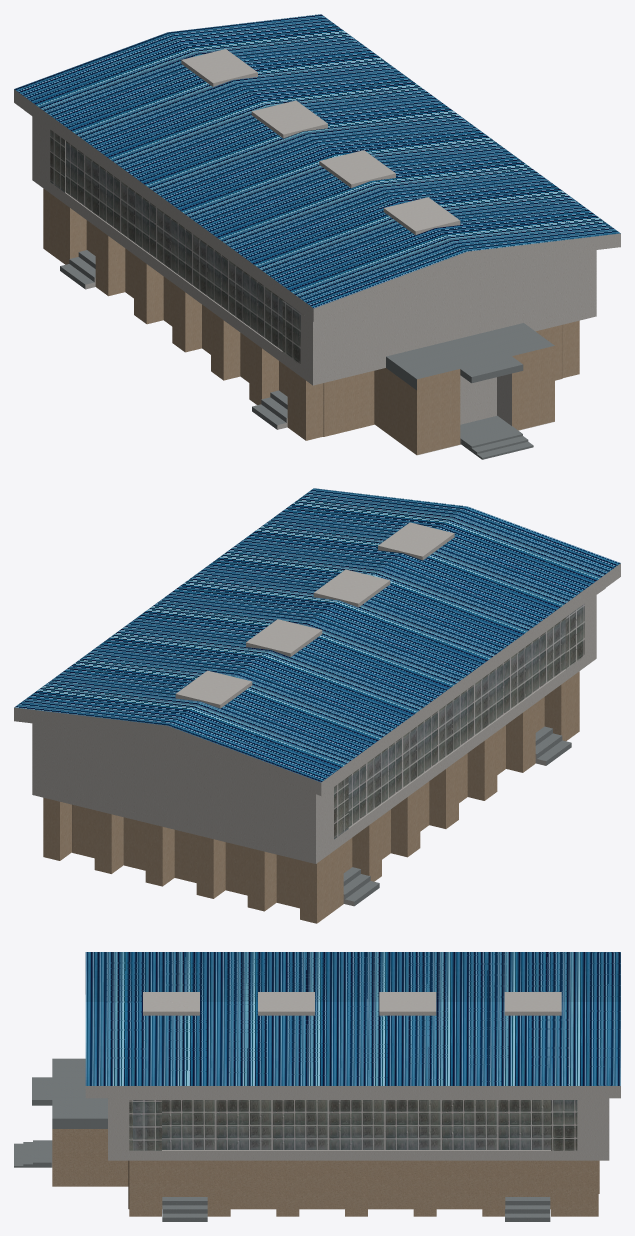
Rendered from gym2.fbx.
3 renders of one model, top to bottom at view 1: azimuth 30°, elevation 25°; view 2: azimuth 150°, elevation 25°; view 3: azimuth 270°, elevation 25°, orthographic. The views are drawn at different scales.
Visible parts, largest first — view 1: Stairs.000; view 2: Stairs.000; view 3: Stairs.000.
Boxes of the visible parts, x1,y1,x2,y2 form: Stairs.000: [14, 14, 620, 459]; Stairs.000: [14, 488, 620, 923]; Stairs.000: [14, 952, 620, 1221].
Bounding box in the file's own units: 423 × 231 × 810.
